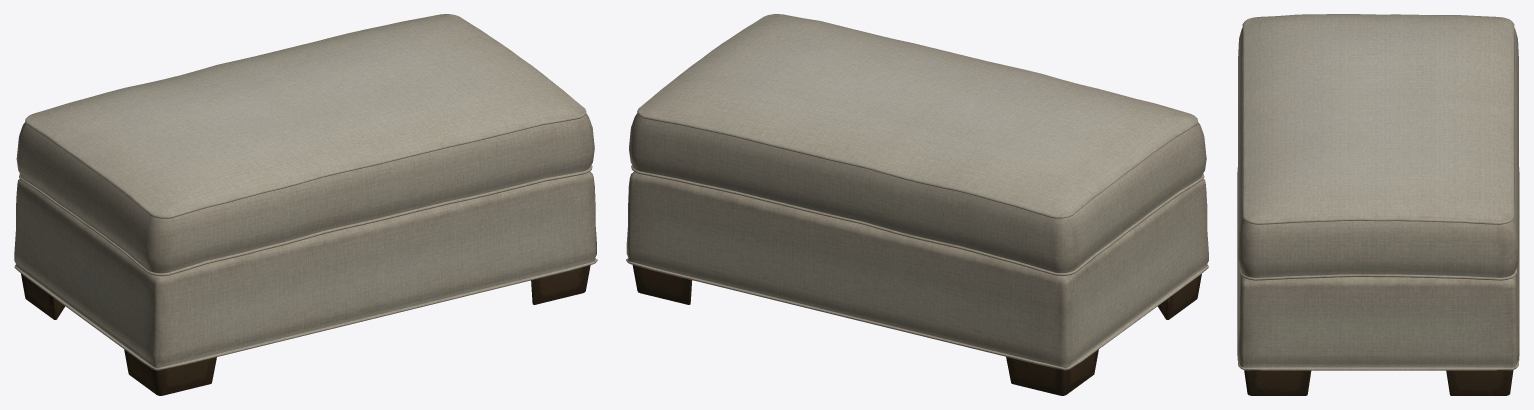
File: sofa_B073ZRS8TR.glb
The picture shows the model from 3 angles, left to right: view 1: azimuth 30°, elevation 25°; view 2: azimuth 150°, elevation 25°; view 3: azimuth 270°, elevation 25°; orthographic projection. The views are drawn at different scales.
Parts seen in each view (by area): view 1: RootNode; view 2: RootNode; view 3: RootNode.
Part boxes in pixels (<box>): RootNode: <box>14,14,597,395</box>; RootNode: <box>626,14,1208,395</box>; RootNode: <box>1237,14,1519,395</box>.
Size of the model in its own units: 1.1 by 0.4608 by 0.6172.
1 material, 1 textured.
